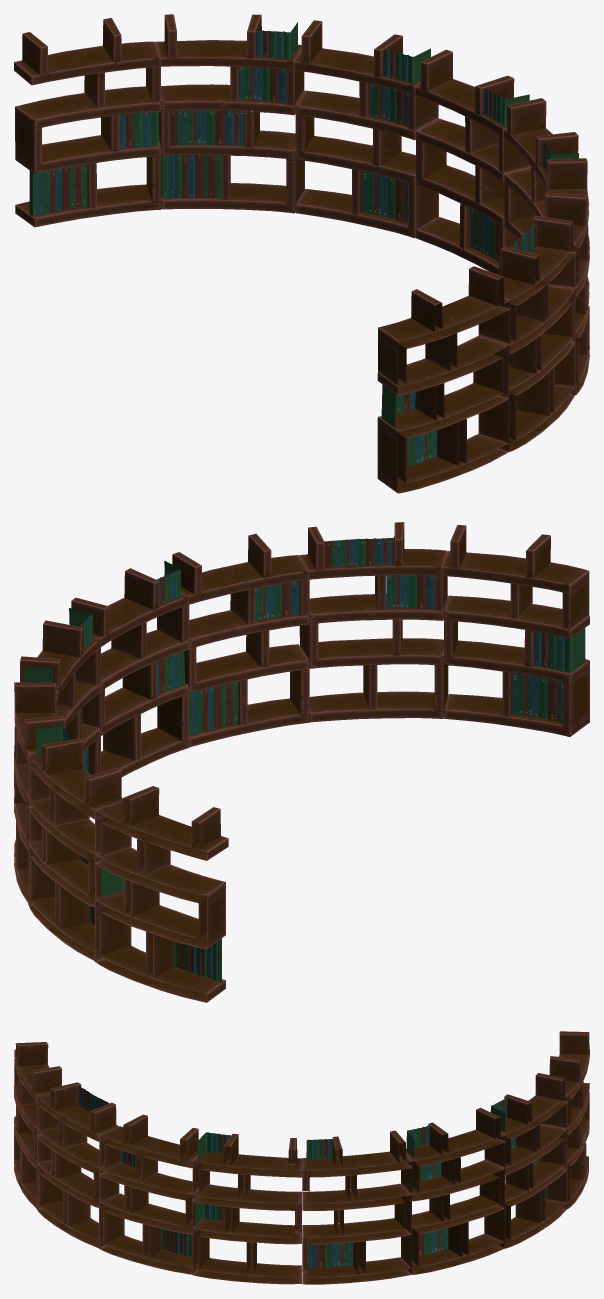
File: SM_BookShelf_01_Empty.fbx
3 renders of one model, top to bottom at view 1: azimuth 30°, elevation 25°; view 2: azimuth 150°, elevation 25°; view 3: azimuth 270°, elevation 25°, orthographic. The views are drawn at different scales.
Parts seen in each view (by area): view 1: SM_BookShelf_01_Empty_LOD0; view 2: SM_BookShelf_01_Empty_LOD0; view 3: SM_BookShelf_01_Empty_LOD0.
Boxes of the visible parts, box(x1,y1,x2,y2) form: SM_BookShelf_01_Empty_LOD0: box(14, 14, 589, 493); SM_BookShelf_01_Empty_LOD0: box(14, 522, 589, 1002); SM_BookShelf_01_Empty_LOD0: box(14, 1031, 589, 1284).
Size of what is drawn, in the model's own units: 6.23 by 3.17 by 12.36.
